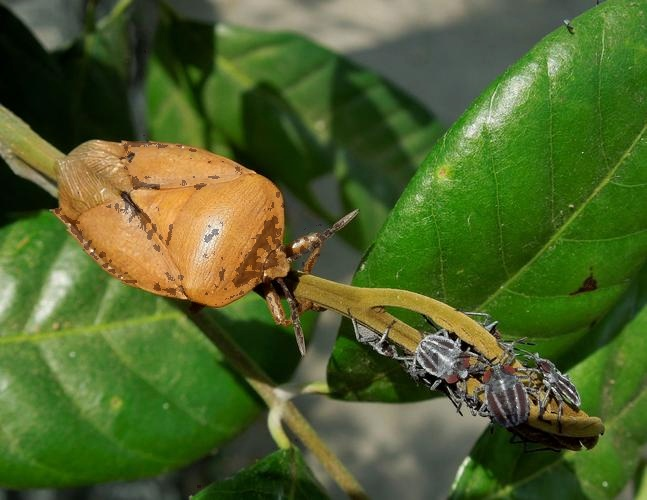Stink_Bug: (56, 134, 303, 288), (476, 361, 537, 421), (533, 351, 585, 415), (410, 334, 469, 390)
